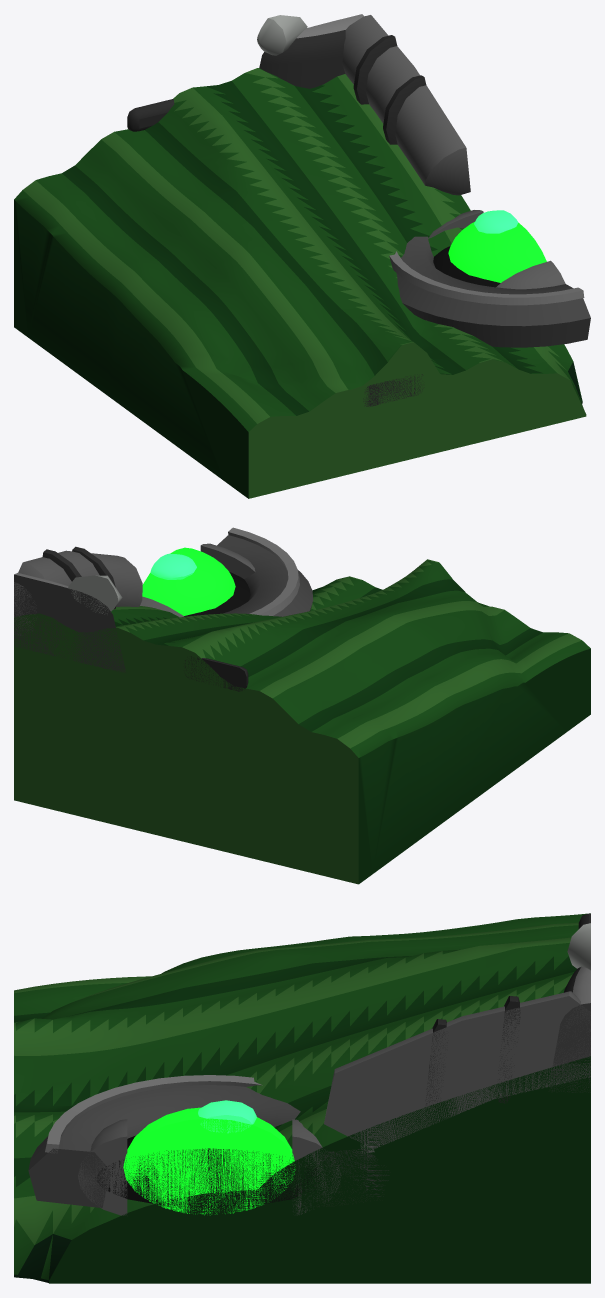
File: green_shell_eye_231.glb
The picture shows the model from 3 angles, top to bottom: view 1: azimuth 30°, elevation 25°; view 2: azimuth 150°, elevation 25°; view 3: azimuth 270°, elevation 25°; orthographic projection. The views are drawn at different scales.
Parts seen in each view (by area): view 1: carapace, eye_ring, stalk, housing, eye, eye_ring_hi, strut6, lid-1, stalk_ring-4, lobe_lamp_frame-14, stalk_ring-8, lamp_frame-14 (+2 smaller); view 2: carapace, housing, eye, stalk, eye_ring, eye_ring_hi, strut6, lamp_frame-14, eye_core, lid-1, socket; view 3: carapace, stalk, eye, eye_ring, socket, lid-1, housing, eye_ring_hi, lid1, eye_core, strut6, stalk_ring-4.
Boxes of the visible parts, x1,y1,x2,y2 form: carapace: (14, 68, 586, 498); eye_ring: (396, 236, 590, 347); stalk: (342, 15, 470, 195); housing: (259, 14, 363, 88); eye: (448, 222, 546, 282); eye_ring_hi: (389, 251, 584, 305); strut6: (257, 15, 307, 55); lid-1: (496, 260, 565, 289); stalk_ring-4: (353, 35, 397, 104); lobe_lamp_frame-14: (363, 374, 424, 406); stalk_ring-8: (383, 75, 426, 144); lamp_frame-14: (127, 99, 174, 131); carapace: (14, 559, 590, 884); housing: (14, 573, 125, 672); eye: (142, 547, 235, 615); stalk: (14, 550, 142, 635); eye_ring: (217, 535, 313, 616); eye_ring_hi: (228, 527, 299, 615); strut6: (68, 575, 122, 614); lamp_frame-14: (185, 656, 248, 691); eye_core: (150, 553, 196, 579); lid-1: (200, 543, 255, 578); socket: (184, 572, 250, 616); carapace: (14, 913, 590, 1283); stalk: (324, 991, 590, 1149); eye: (123, 1107, 295, 1215); eye_ring: (28, 1085, 389, 1207); socket: (95, 1135, 318, 1207); lid-1: (78, 1119, 127, 1215); housing: (550, 966, 590, 1092); eye_ring_hi: (45, 1075, 374, 1153); lid1: (292, 1119, 340, 1215); eye_core: (198, 1100, 256, 1133); strut6: (567, 923, 590, 970); stalk_ring-4: (498, 996, 520, 1103).
Bounding box in the file's own units: 24 × 16.28 × 28.
